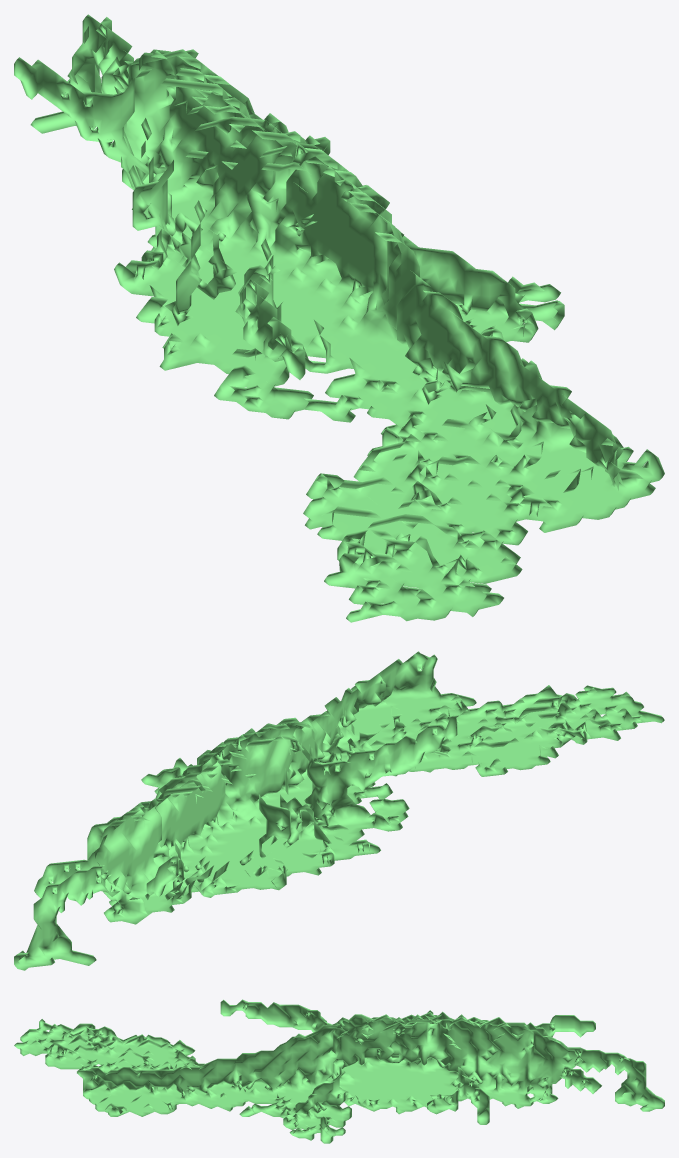
The model's file is osteocyte_21.glb.
3 renders of one model, top to bottom at view 1: azimuth 30°, elevation 25°; view 2: azimuth 150°, elevation 25°; view 3: azimuth 270°, elevation 25°, orthographic. The views are drawn at different scales.
Parts seen in each view (by area): view 1: osteocyte_21; view 2: osteocyte_21; view 3: osteocyte_21.
Part boxes in pixels (box(x1,y1,x2,y2)): osteocyte_21: box(14, 14, 664, 622); osteocyte_21: box(14, 651, 664, 970); osteocyte_21: box(14, 999, 664, 1143).
Bounding box in the file's own units: 22.15 × 6.26 × 50.07.
